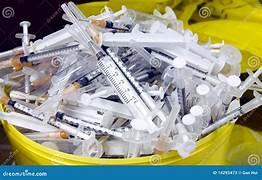Syringe: (89, 42, 157, 131), (201, 91, 261, 135), (0, 45, 79, 69), (0, 96, 44, 120)
